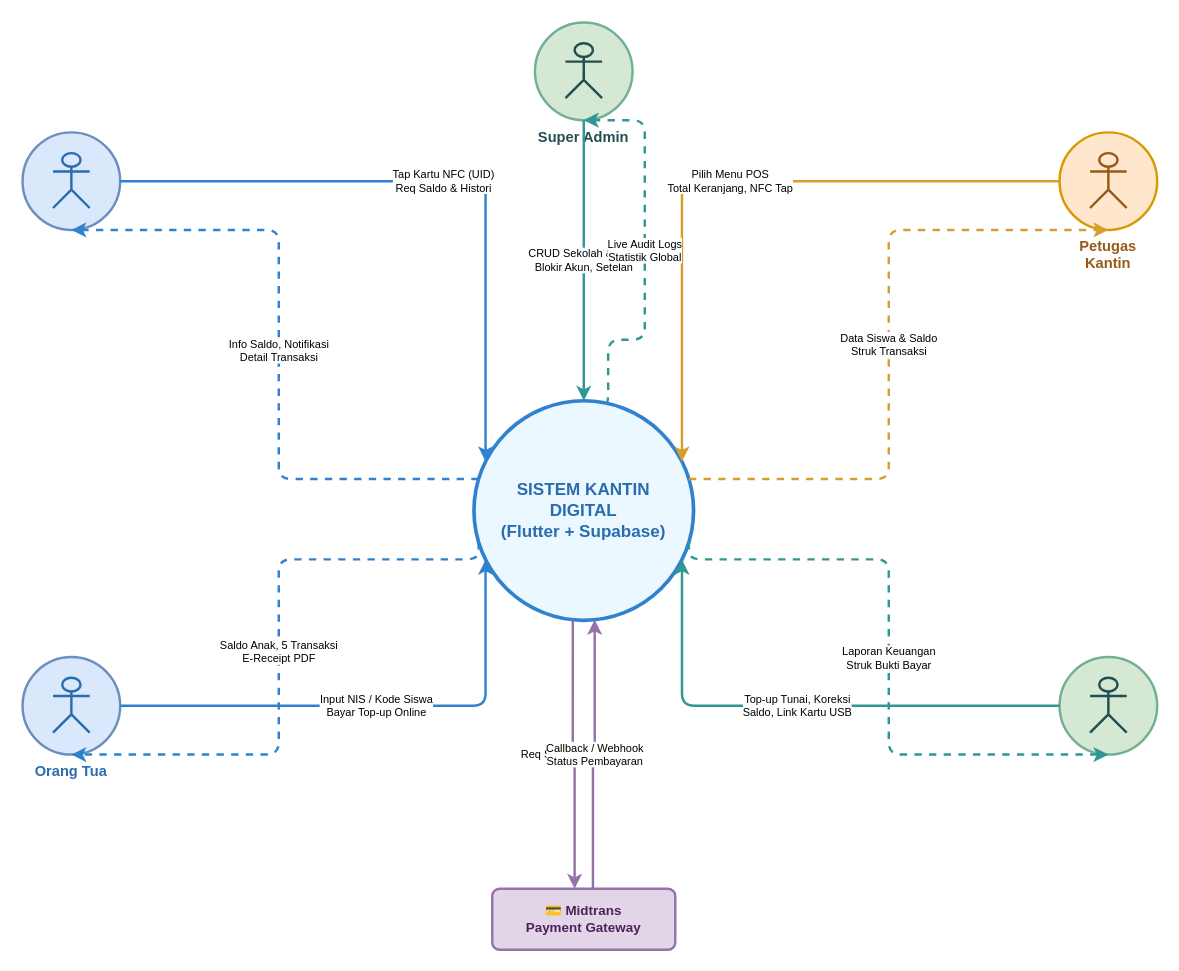
This 1179x971 diagram has some shape labels left out. Here are the shapes that lost their labels. From the top down, the box of each, then its label:
(21, 131, 121, 231): Siswa
(1058, 655, 1158, 755): Admin Keuangan
